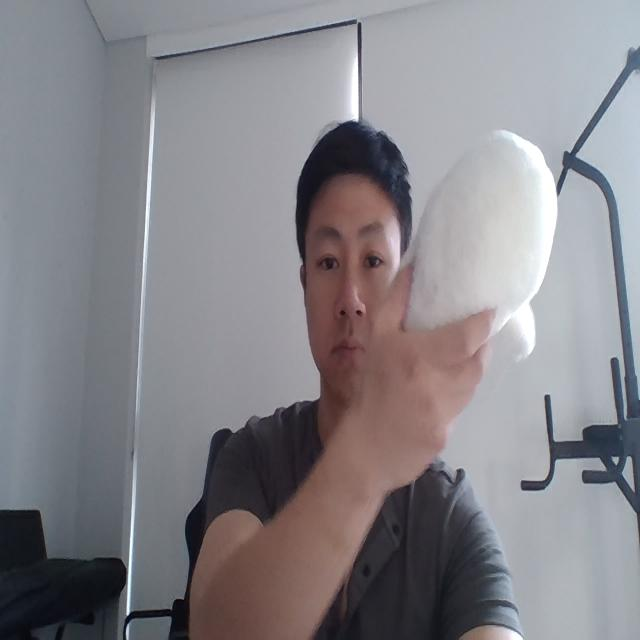seal_bb: (376, 127, 559, 365)
